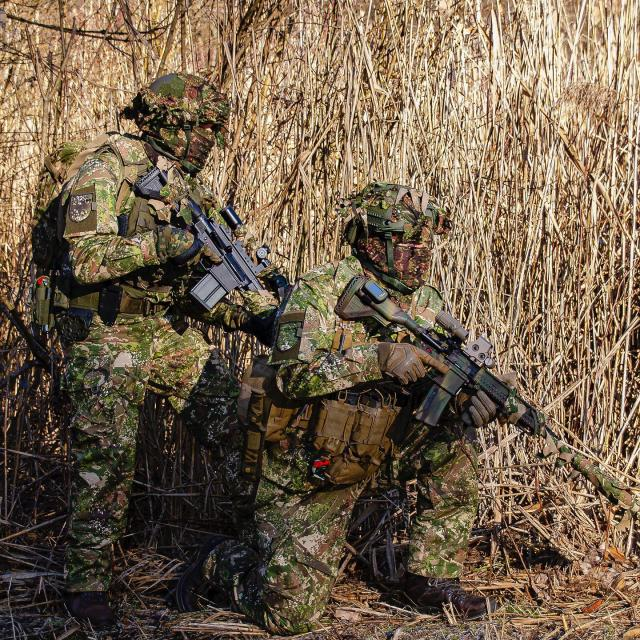Human: (177, 181, 640, 616), (33, 73, 286, 624)
